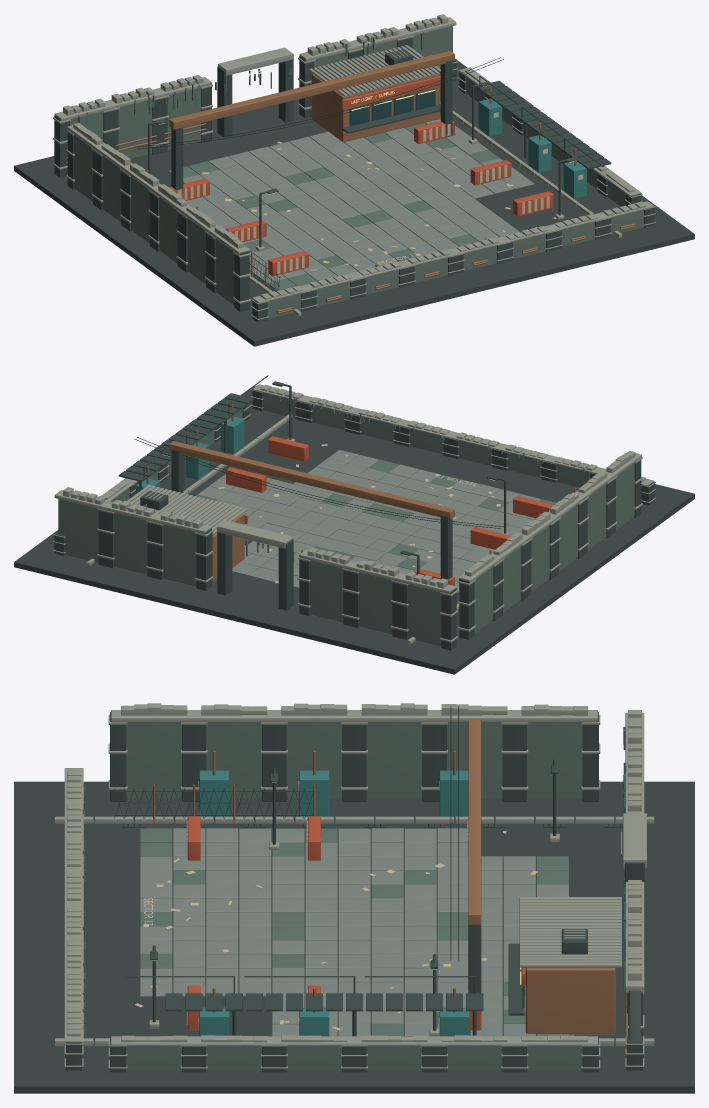
The model's file is arena.glb.
3 renders of one model, top to bottom at view 1: azimuth 30°, elevation 25°; view 2: azimuth 150°, elevation 25°; view 3: azimuth 270°, elevation 25°, orthographic. The views are drawn at different scales.
Visible parts, largest first — view 1: District static geometry; view 2: District static geometry; view 3: District static geometry.
Boxes of the visible parts, left/top/right/bottom form: District static geometry: left=14, top=14, right=694, bottom=346; District static geometry: left=14, top=375, right=694, bottom=674; District static geometry: left=14, top=703, right=694, bottom=1093.
Size of the model in its own units: 36 by 6.84 by 34.
